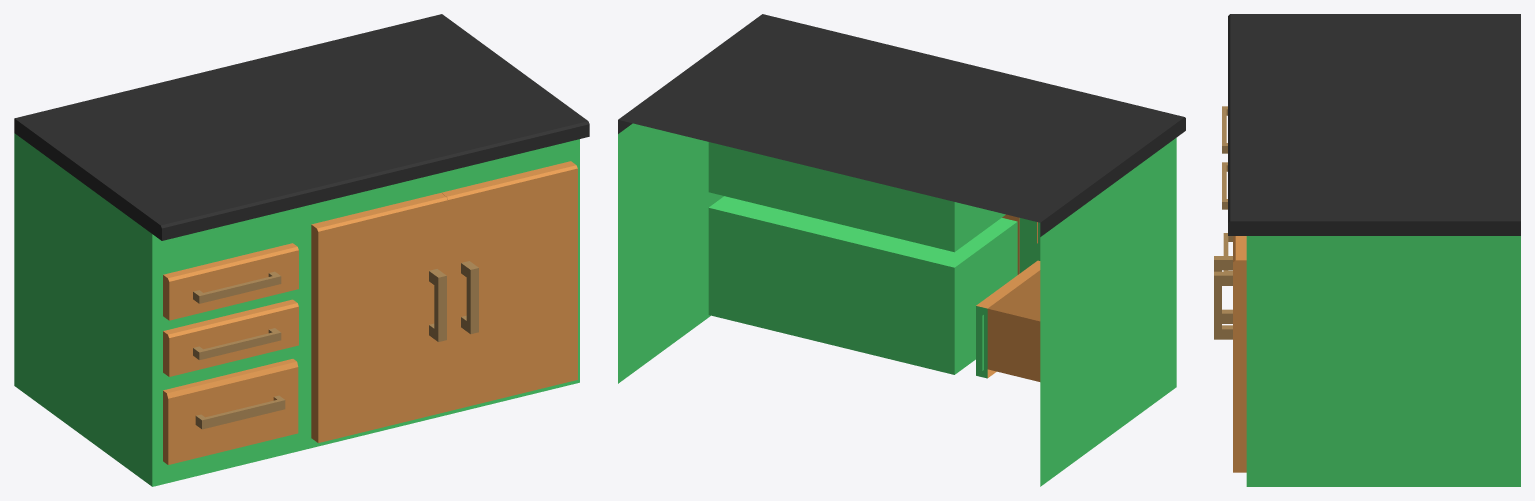
The model's file is propsMaison_meubleRangement.fbx.
The picture shows the model from 3 angles, left to right: view 1: azimuth 30°, elevation 25°; view 2: azimuth 150°, elevation 25°; view 3: azimuth 270°, elevation 25°; orthographic projection.
Parts seen in each view (by area): view 1: meubleRAngement, meubleRAngementPorte1, meubleRAngementporte2, meubleRAngement_tirroire; view 2: meubleRAngement, meubleRAngement_tirroire; view 3: meubleRAngement, meubleRAngementporte2, meubleRAngementPorte1.
Boxes of the visible parts, left/top/right/bottom form: meubleRAngement: left=14, top=14, right=589, bottom=486; meubleRAngementPorte1: left=311, top=193, right=447, bottom=442; meubleRAngementporte2: left=441, top=161, right=577, bottom=411; meubleRAngement_tirroire: left=163, top=359, right=298, bottom=464; meubleRAngement: left=618, top=14, right=1185, bottom=486; meubleRAngement_tirroire: left=976, top=260, right=1040, bottom=381; meubleRAngement: left=1222, top=14, right=1520, bottom=486; meubleRAngementporte2: left=1214, top=236, right=1246, bottom=472; meubleRAngementPorte1: left=1214, top=256, right=1232, bottom=323.
Bounding box in the file's own units: 348 × 208 × 217.
